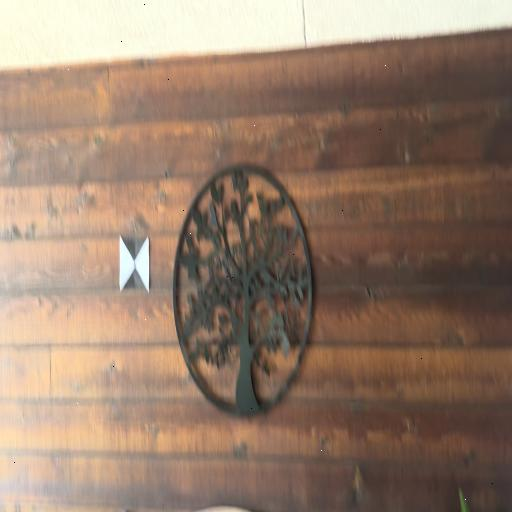target: (120, 237, 149, 291)
